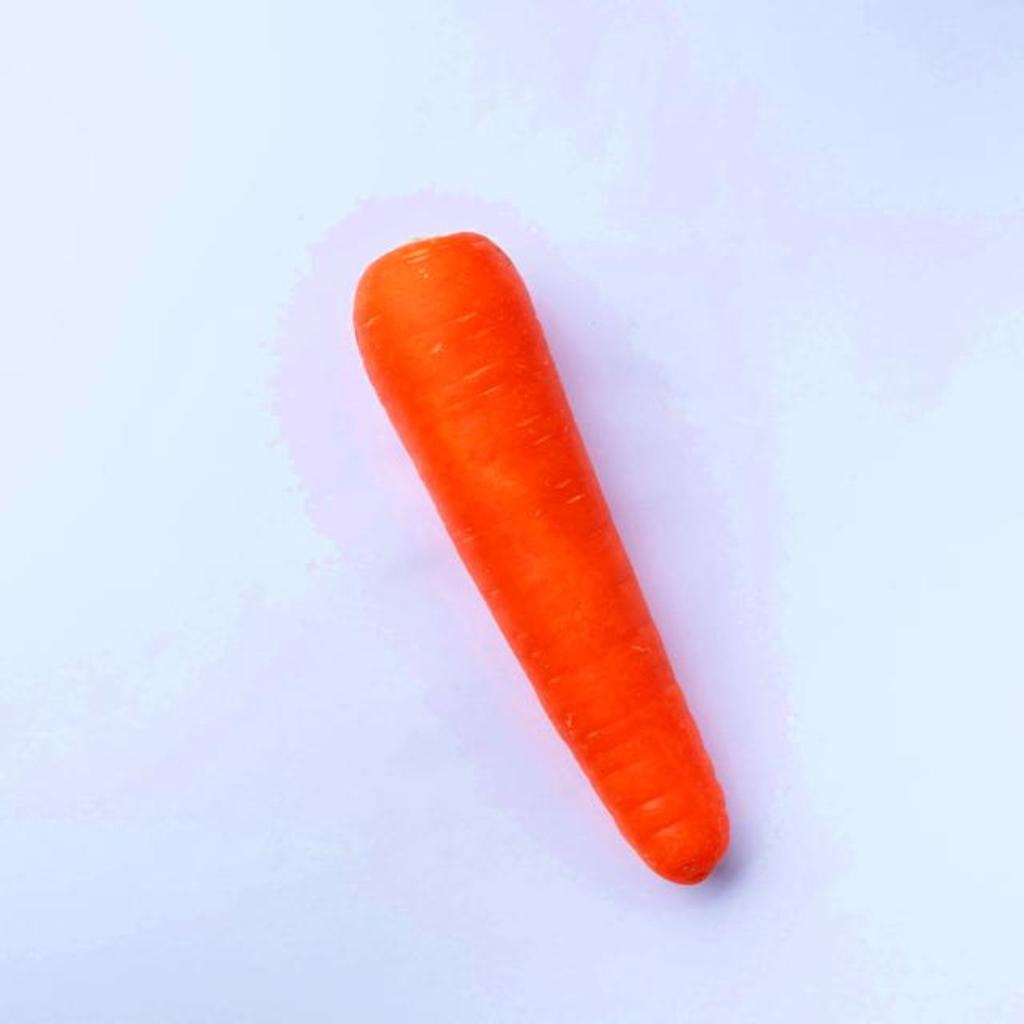carrot: (354, 232, 728, 883)
